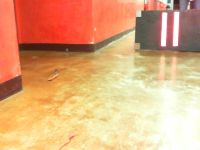switch: (160, 12, 168, 47), (172, 12, 180, 47)
